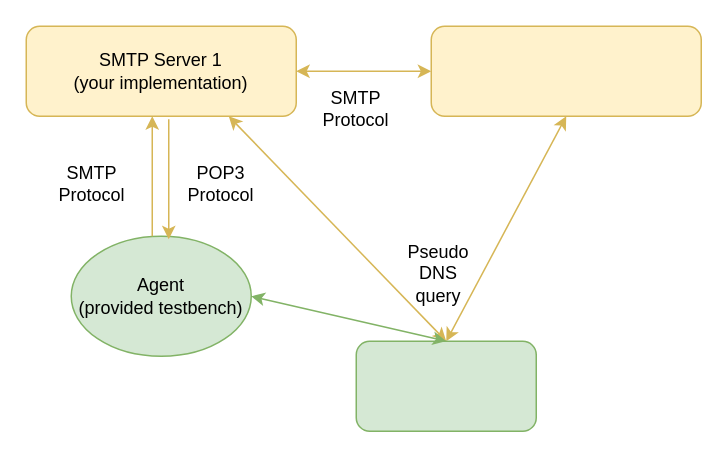
The diagram is 728 pixels wide and 458 high, and some of its shapes have lost their labels. Here are the shapes that lost their labels. From the top down, the box of each, then its label:
(430, 25, 701, 116): SMTP Server 2 (your implementation)
(355, 340, 536, 431): Psuedo DNS Server (provided)
